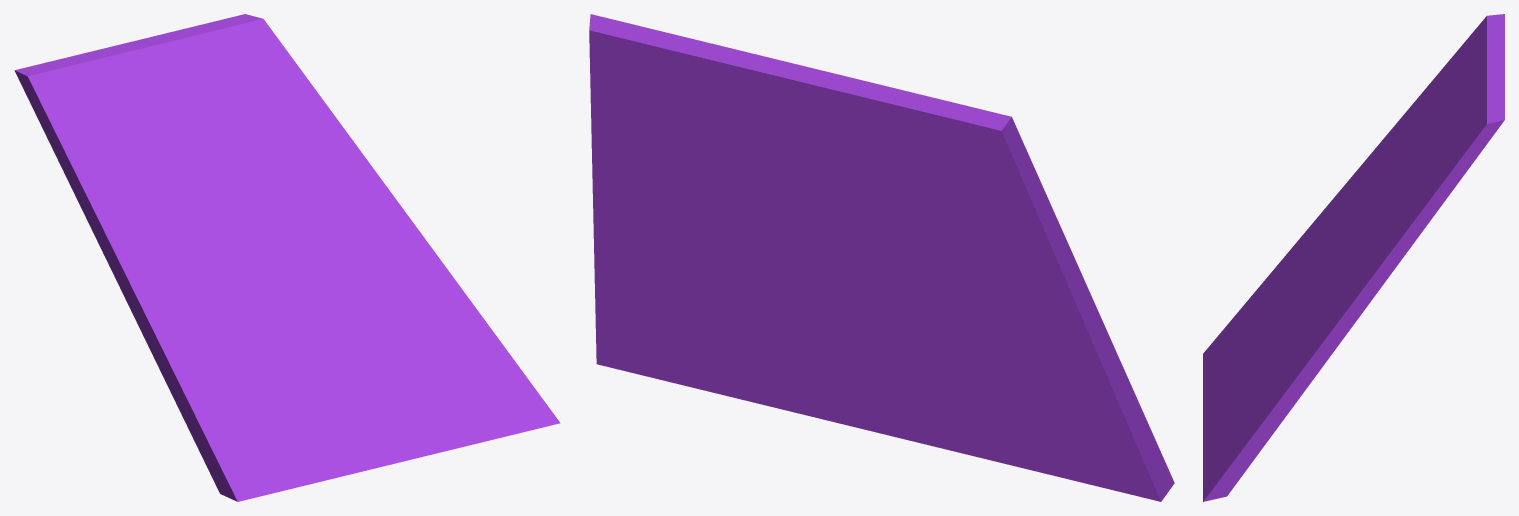
The model's file is Window_87_chunks.fbx.
3 renders of one model, left to right at view 1: azimuth 30°, elevation 25°; view 2: azimuth 150°, elevation 25°; view 3: azimuth 270°, elevation 25°, orthographic. The views are drawn at different scales.
Parts seen in each view (by area): view 1: Window_87_1, Window_87_0, Window_87_12, Window_87_4, Window_87_23, Window_87_20, Window_87_5, Window_87_6, Window_87_2, Window_87_15, Window_87_7, Window_87_9 (+12 smaller); view 2: Window_87_1, Window_87_4, Window_87_12, Window_87_2, Window_87_6, Window_87_15, Window_87_5, Window_87_0, Window_87_22, Window_87_14, Window_87_10, Window_87_11 (+10 smaller); view 3: Window_87_1, Window_87_7, Window_87_0, Window_87_15, Window_87_23, Window_87_6, Window_87_12, Window_87_4, Window_87_20, Window_87_5, Window_87_22, Window_87_2 (+8 smaller).
Boxes of the visible parts, bbox=[...] form: Window_87_1: bbox=[84, 17, 253, 180]; Window_87_0: bbox=[135, 240, 281, 447]; Window_87_12: bbox=[14, 53, 163, 180]; Window_87_4: bbox=[179, 300, 324, 498]; Window_87_23: bbox=[318, 231, 510, 355]; Window_87_20: bbox=[307, 366, 456, 465]; Window_87_5: bbox=[267, 261, 413, 366]; Window_87_6: bbox=[232, 14, 303, 188]; Window_87_2: bbox=[130, 177, 261, 319]; Window_87_15: bbox=[436, 341, 560, 446]; Window_87_7: bbox=[292, 58, 422, 235]; Window_87_9: bbox=[69, 161, 141, 305]; Window_87_1: bbox=[612, 26, 891, 208]; Window_87_4: bbox=[852, 276, 1170, 501]; Window_87_12: bbox=[877, 87, 1043, 219]; Window_87_2: bbox=[761, 190, 1095, 349]; Window_87_6: bbox=[589, 14, 788, 218]; Window_87_15: bbox=[595, 298, 765, 405]; Window_87_5: bbox=[689, 257, 871, 350]; Window_87_0: bbox=[907, 291, 1153, 436]; Window_87_22: bbox=[593, 183, 723, 279]; Window_87_14: bbox=[713, 307, 874, 392]; Window_87_10: bbox=[965, 192, 1085, 325]; Window_87_11: bbox=[879, 186, 1092, 338]; Window_87_1: bbox=[1393, 46, 1504, 198]; Window_87_7: bbox=[1334, 161, 1459, 326]; Window_87_0: bbox=[1239, 190, 1355, 310]; Window_87_15: bbox=[1203, 405, 1278, 501]; Window_87_23: bbox=[1251, 271, 1349, 438]; Window_87_6: bbox=[1387, 111, 1504, 220]; Window_87_12: bbox=[1410, 14, 1504, 134]; Window_87_4: bbox=[1210, 269, 1318, 345]; Window_87_20: bbox=[1203, 336, 1271, 453]; Window_87_5: bbox=[1267, 257, 1339, 361]; Window_87_22: bbox=[1297, 256, 1371, 400]; Window_87_2: bbox=[1341, 169, 1399, 234].
Bounding box in the file's own units: 1159 × 947 × 833.
